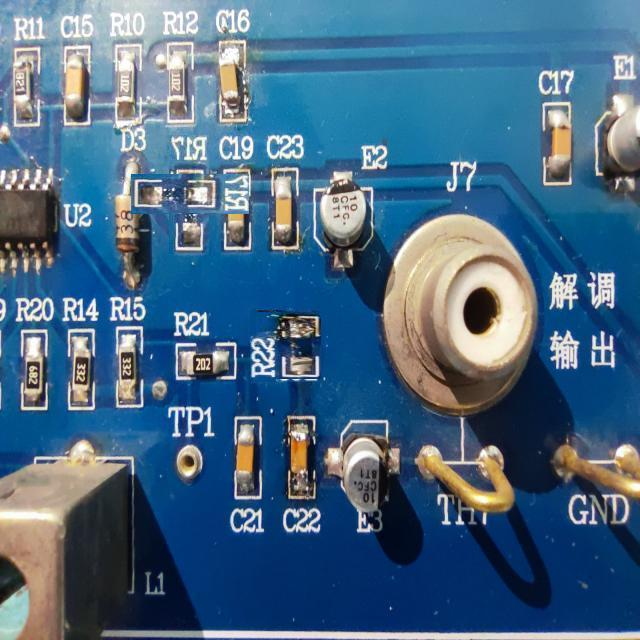miss_welding: (150, 155, 229, 234), (251, 311, 320, 381)
